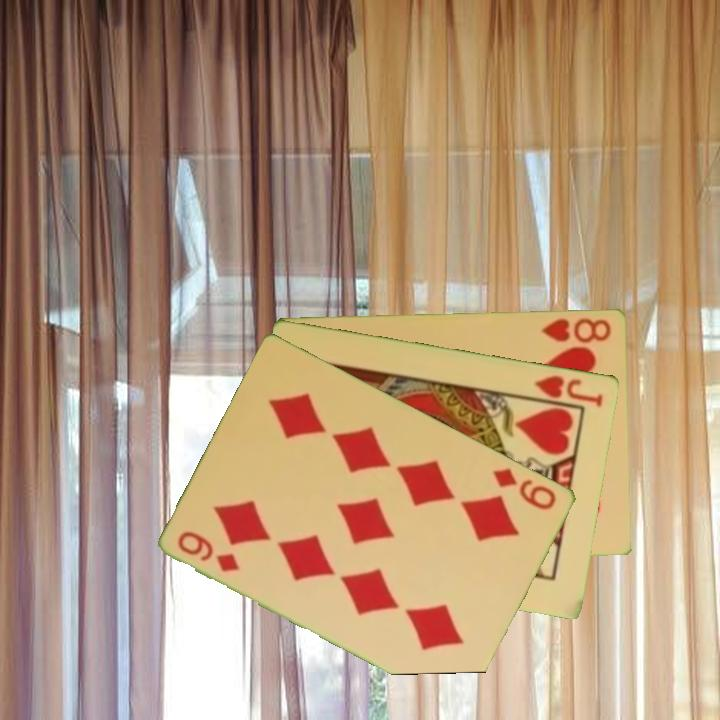8h: (538, 314, 614, 346)
9d: (489, 464, 560, 513), (174, 527, 244, 575)
Jh: (523, 371, 607, 409)
